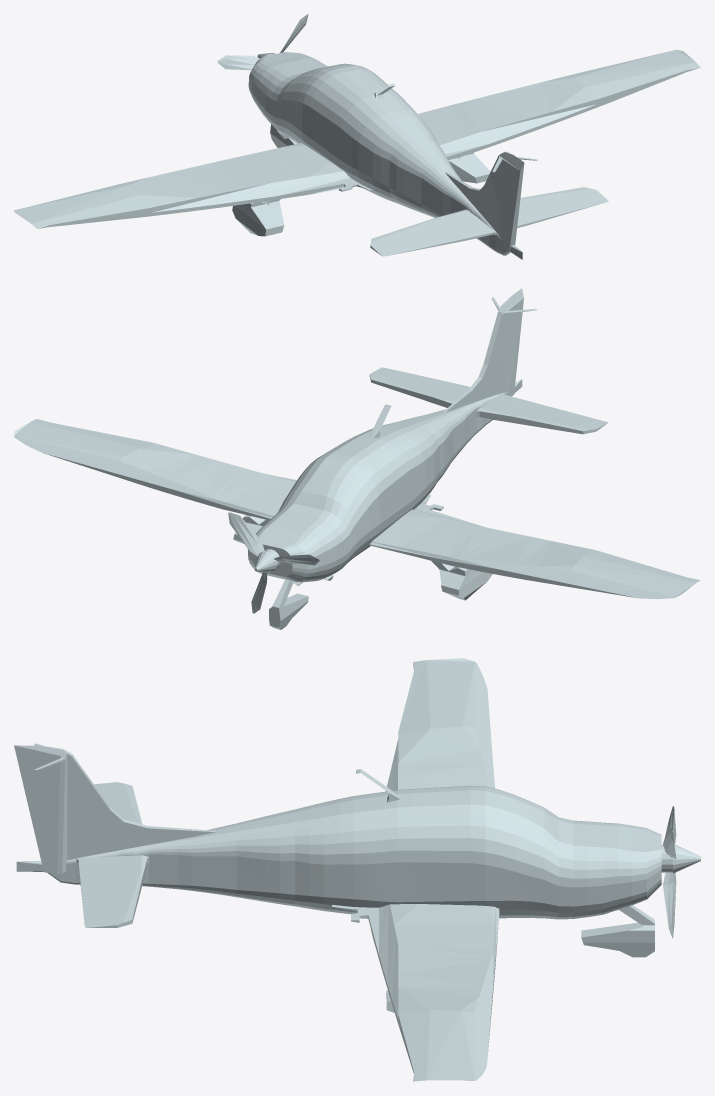
3 views of the same model, one above another, from view 1: azimuth 30°, elevation 25°; view 2: azimuth 150°, elevation 25°; view 3: azimuth 270°, elevation 25° (orthographic). The views are drawn at different scales.
Visible parts, largest first — view 1: Aircraft visual hull, Rotor 1790266909134-nqpo3xqdopm; view 2: Aircraft visual hull, Rotor 1790266909134-nqpo3xqdopm; view 3: Aircraft visual hull, Rotor 1790266909134-nqpo3xqdopm.
Part boxes in pixels (x1,y1,x2,y2): Aircraft visual hull: (14,49,700,259); Rotor 1790266909134-nqpo3xqdopm: (217,14,308,70); Aircraft visual hull: (14,288,700,629); Rotor 1790266909134-nqpo3xqdopm: (228,512,319,613); Aircraft visual hull: (14,658,661,1081); Rotor 1790266909134-nqpo3xqdopm: (661,806,700,938).
Size of the model in its own units: 11.55 by 2.73 by 7.96.
